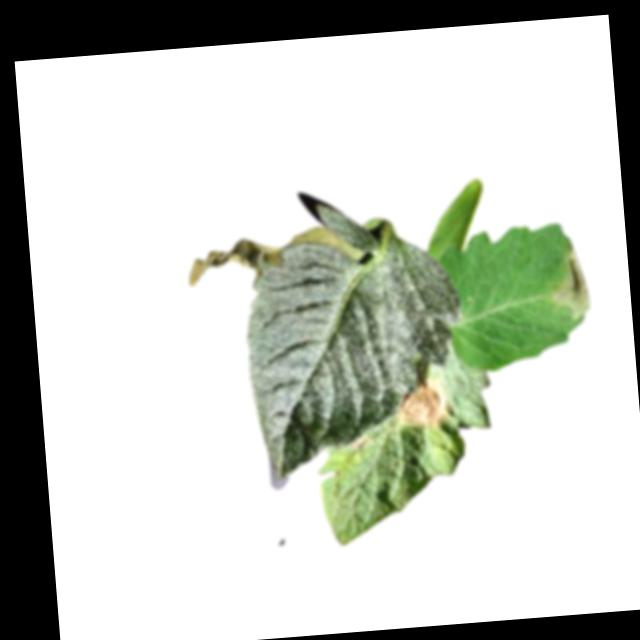Late_blight: (185, 235, 281, 291), (545, 239, 592, 322), (399, 378, 453, 429), (351, 436, 370, 453)
